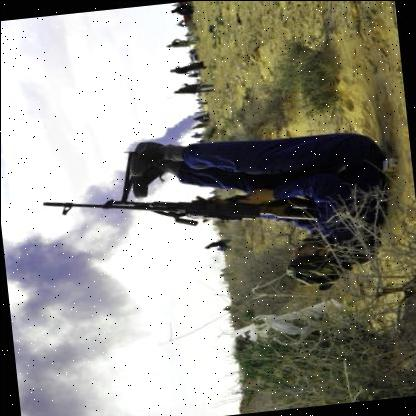rifle: (43, 182, 320, 249)
